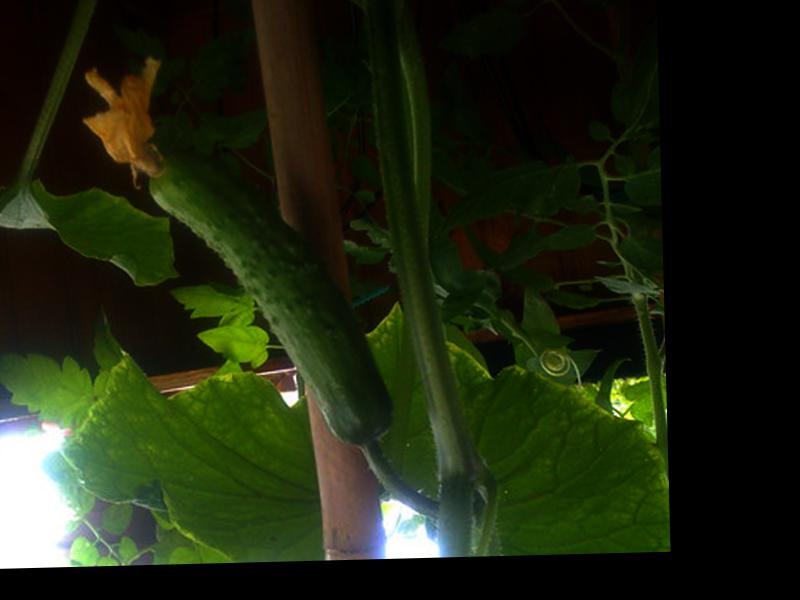Cucumber: (78, 49, 391, 450)
